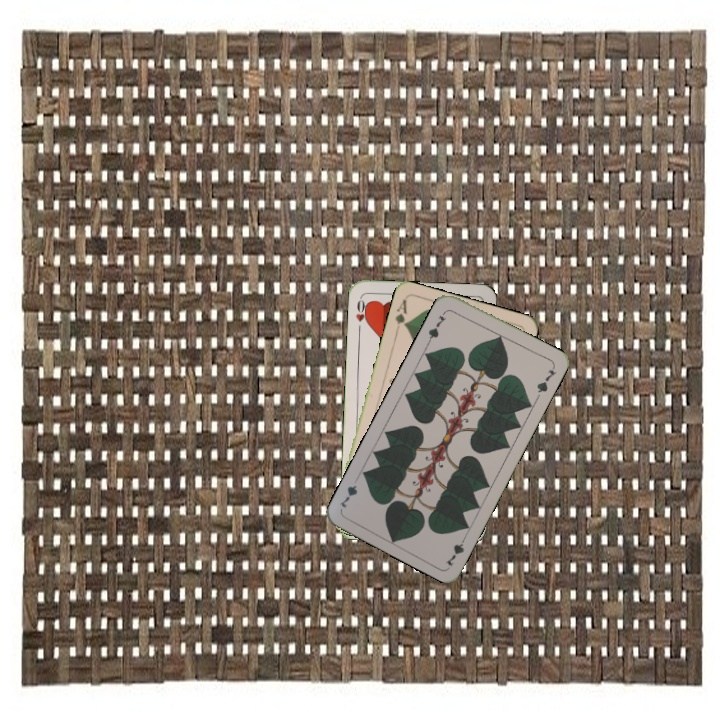G7: (441, 530, 470, 568), (424, 307, 449, 344)
GA: (391, 295, 410, 335)
HO: (352, 294, 371, 335)
